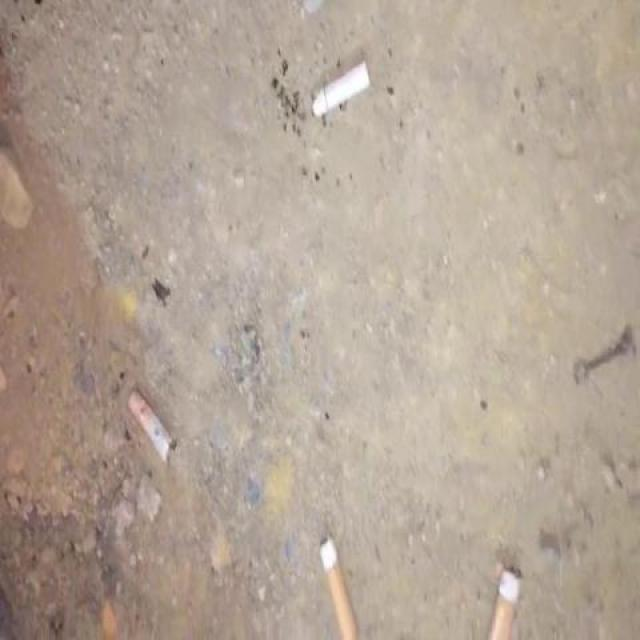non-organic waste: (316, 529, 367, 640), (126, 384, 182, 472), (306, 58, 371, 126), (485, 560, 527, 640)
